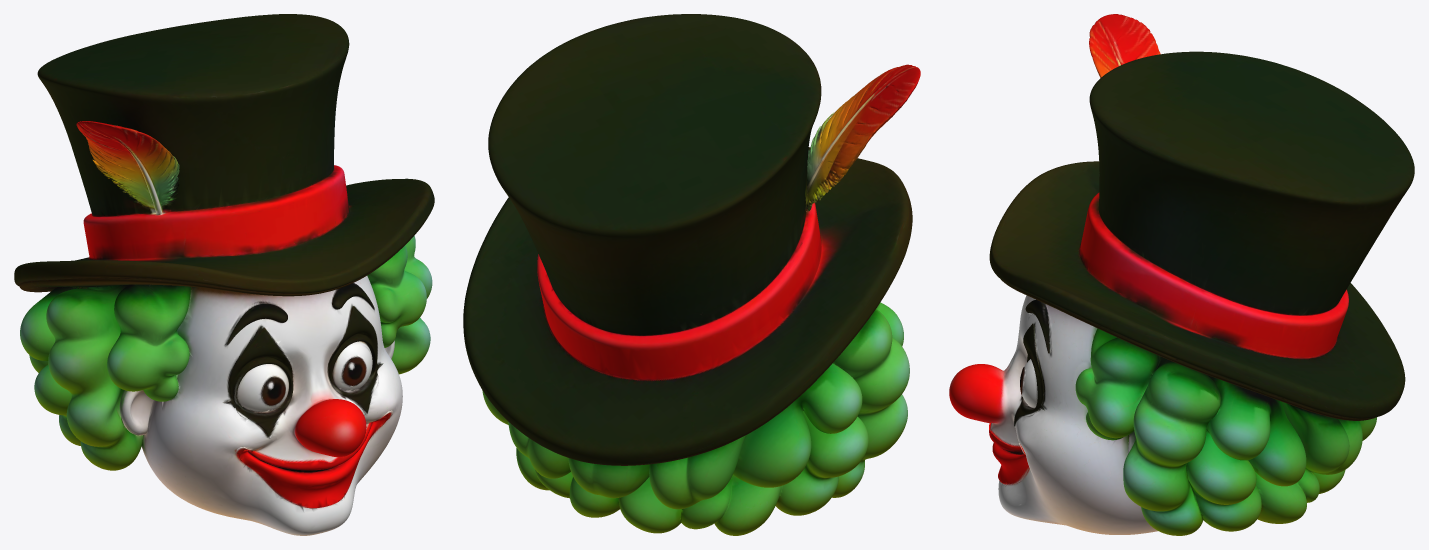
The model's file is 魔术师.glb.
3 renders of one model, left to right at view 1: azimuth 30°, elevation 25°; view 2: azimuth 150°, elevation 25°; view 3: azimuth 270°, elevation 25°, orthographic. The views are drawn at different scales.
Parts seen in each view (by area): view 1: node_0; view 2: node_0; view 3: node_0.
Boxes of the visible parts, x1,y1,x2,y2 form: node_0: (14, 14, 434, 535); node_0: (463, 14, 920, 535); node_0: (949, 14, 1414, 535).
Size of the model in its own units: 0.8182 by 0.8967 by 0.8957.
1 material, 1 textured.
